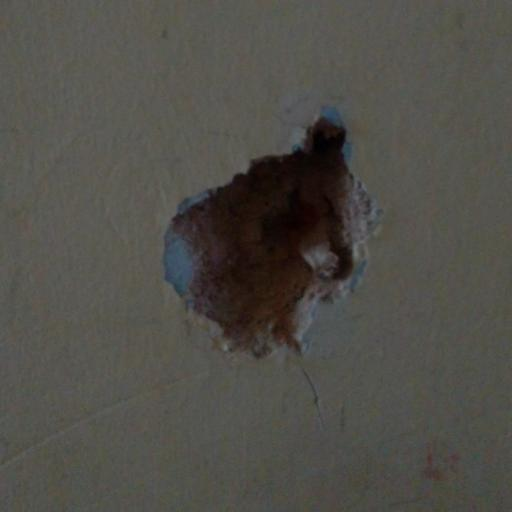spalling: (153, 93, 399, 384)
